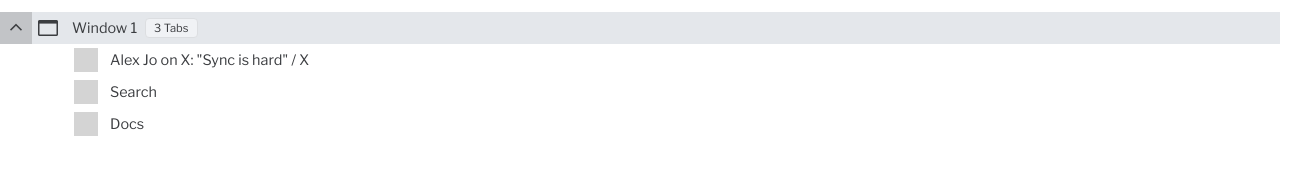
Scenario: the rename field (KAN-824) › Esc keeps the old name and closes the field
The width and height of the screenshot is (1292, 184).
Right-click the button "Search" at (134, 92), box [70,76,1280,108]
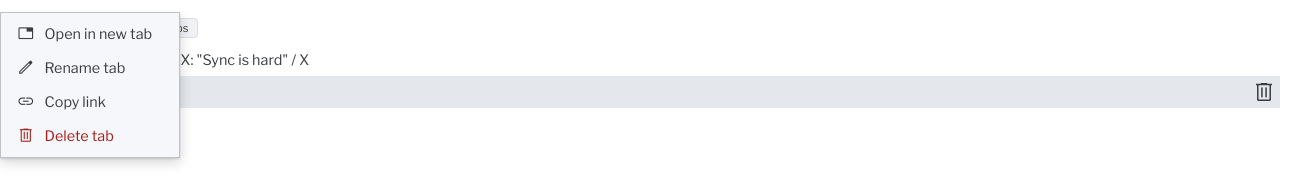
Click the menu item "Rename tab". click: (90, 68)
box: [5,51,175,85]
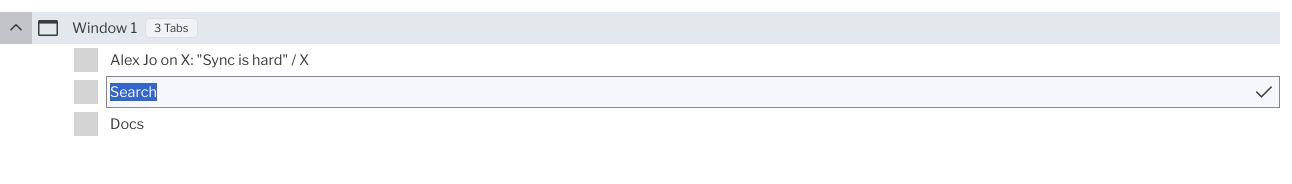
Replace the text in the field named "Rename tab: Search" with "Other". click: (693, 92)
box: [106,76,1280,108]
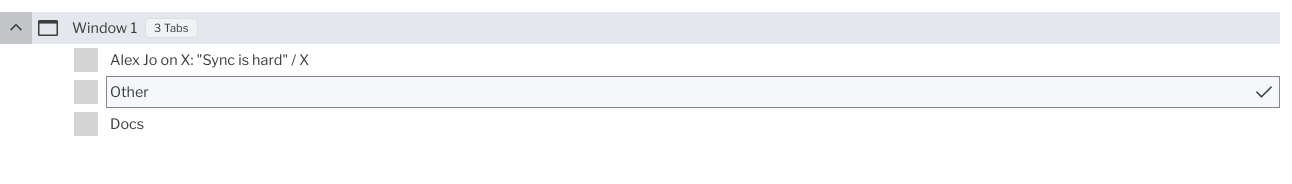
Press Escape in the field named "Rename tab: Search", box [106,76,1280,108]
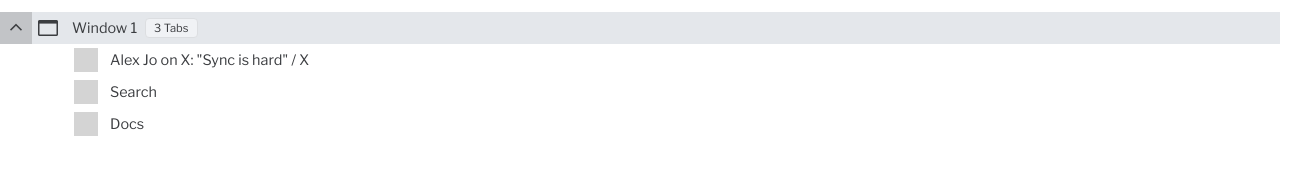
Expected: the field is gone
